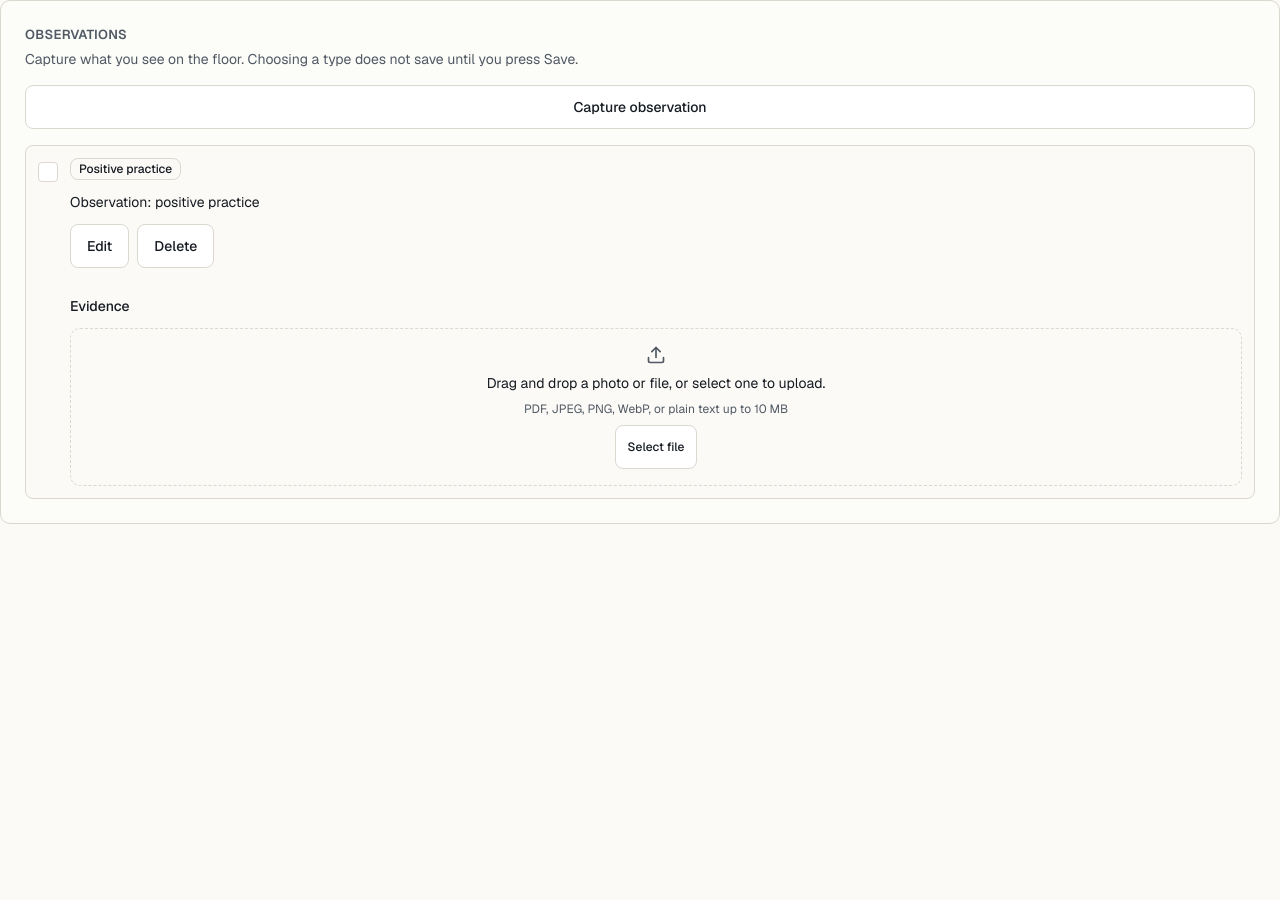
Test: Gemba observation capture › deletes an observation after confirmation
Click the button with test id "gemba-observation-delete-obs-existing" at point(176, 246), box [137,224,214,268]
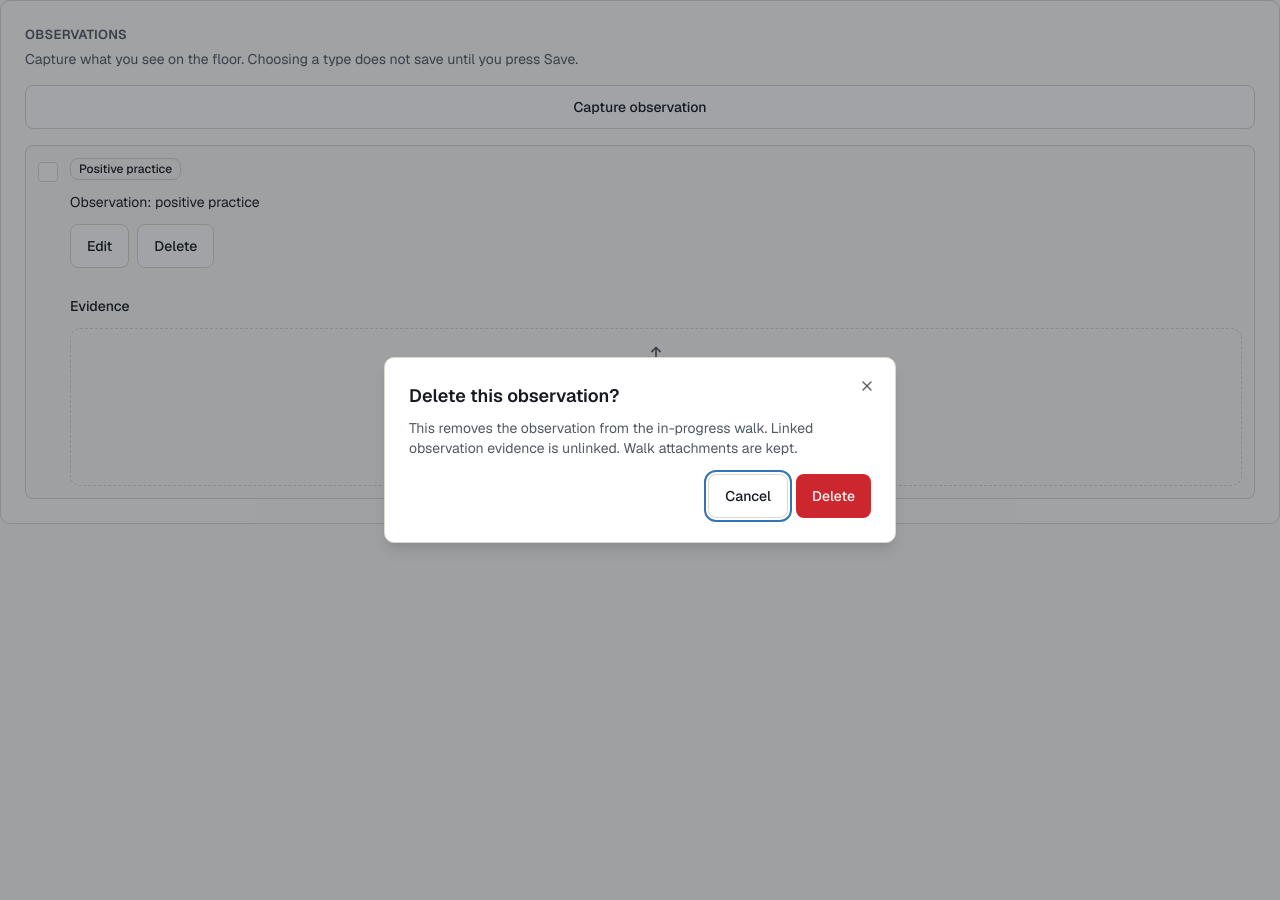
Expected: the heading "Delete this observation?" is shown, [409,384,619,407]
Click the button with test id "gemba-confirm-delete" at point(833, 496), box [796,474,871,518]
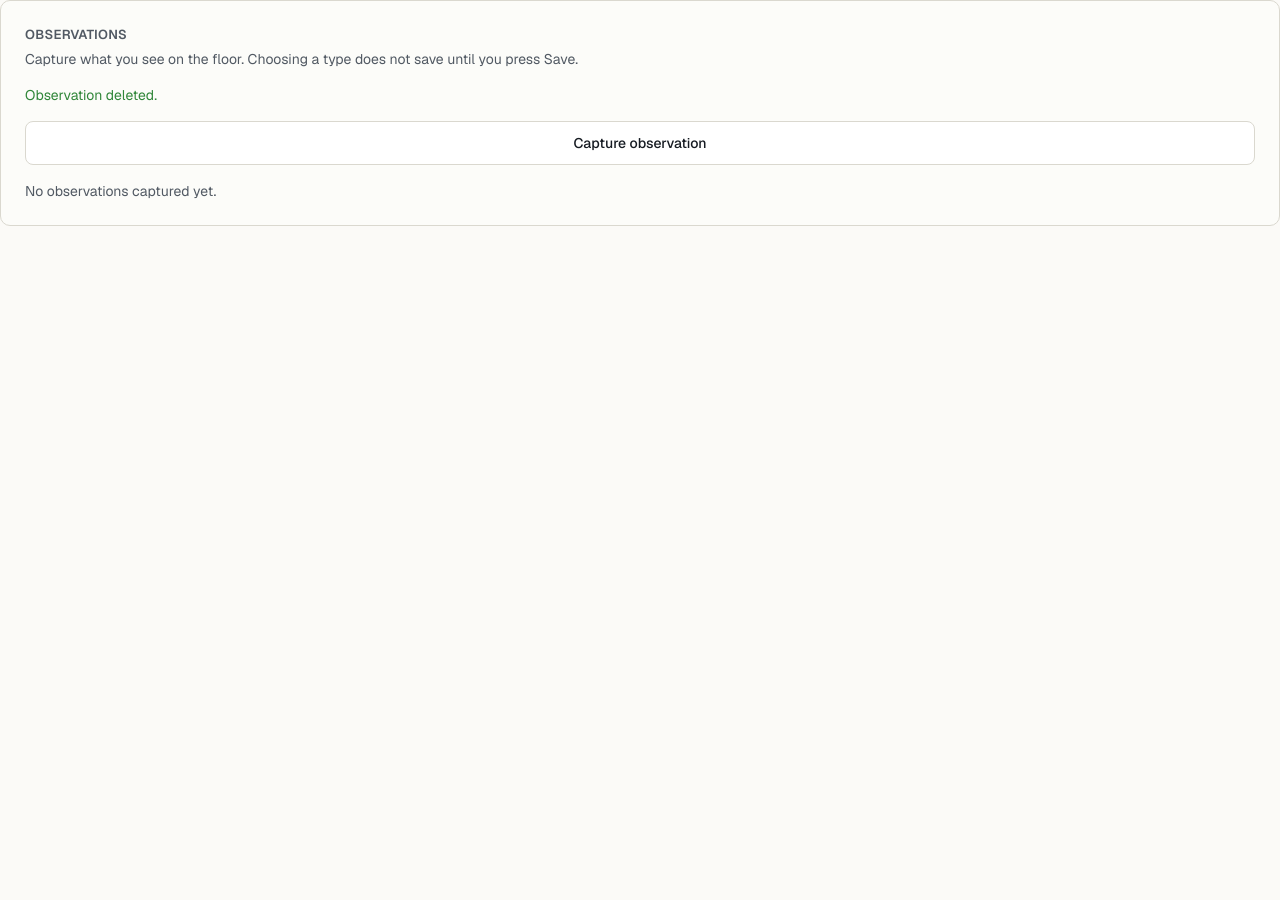
Expected: the text "Observation: positive practice" is gone
